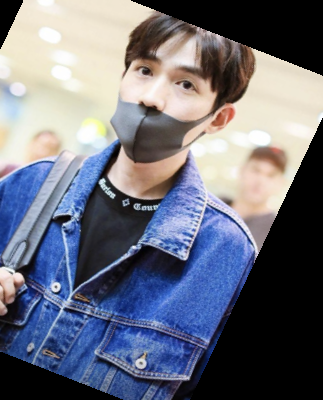mask_weared_incorrect: (110, 3, 268, 176)
